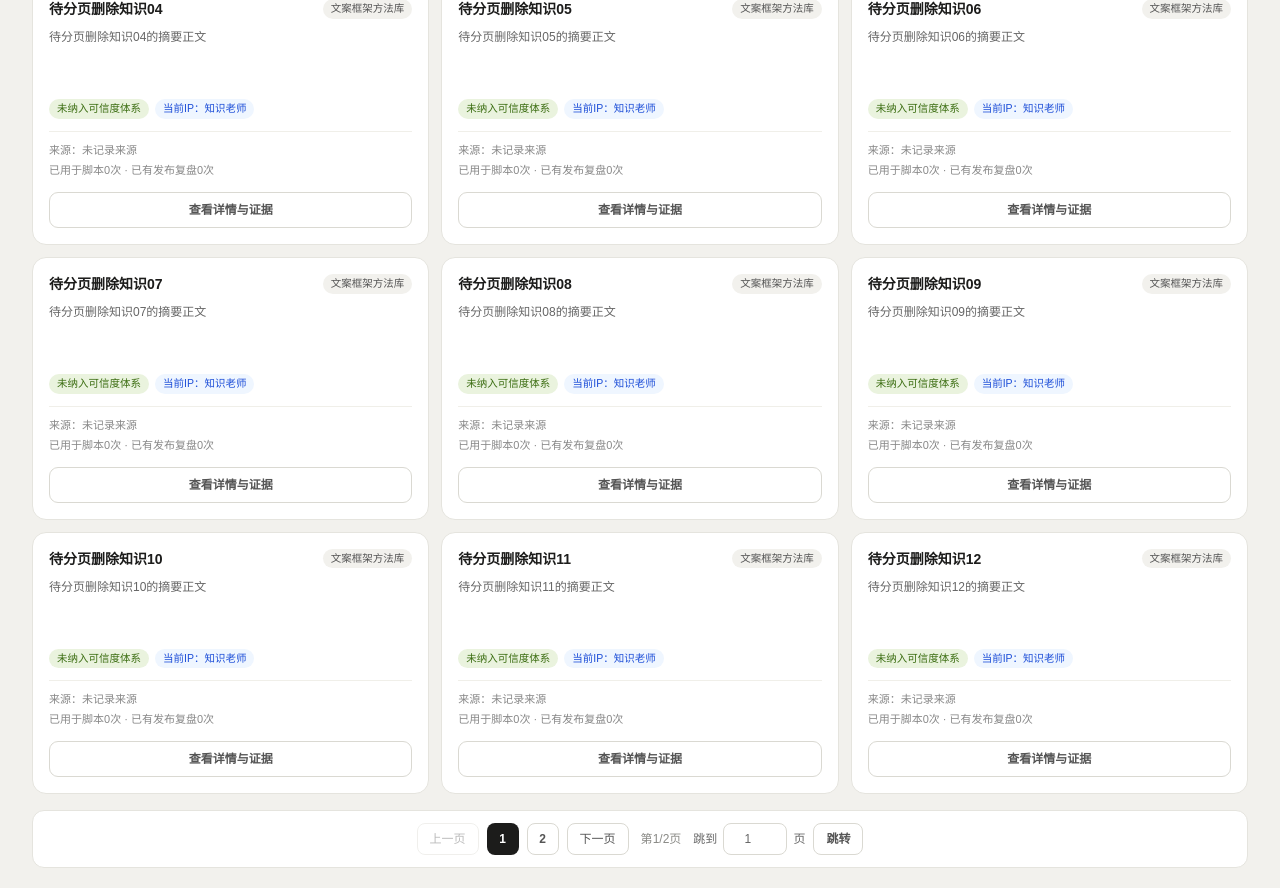
Test: 删除当前末页唯一一条知识后自动退回有效页
The image size is (1280, 888).
(page scrolled)
Click the button named "第2页".
click(543, 839)  # box [527, 823, 559, 855]
(page scrolled)
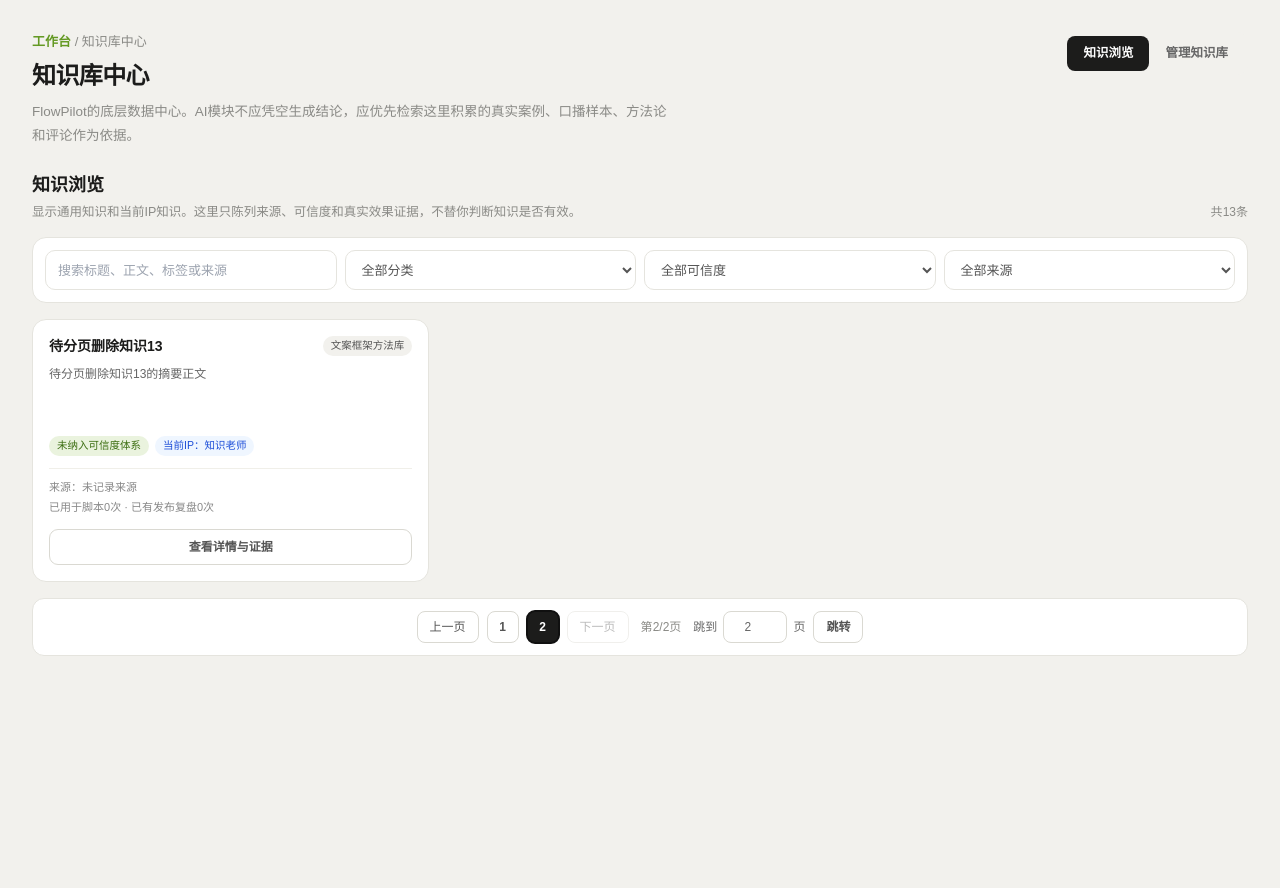
Click the button with aria-label "查看待分页删除知识13详情".
click(231, 547)  # box [49, 529, 412, 565]
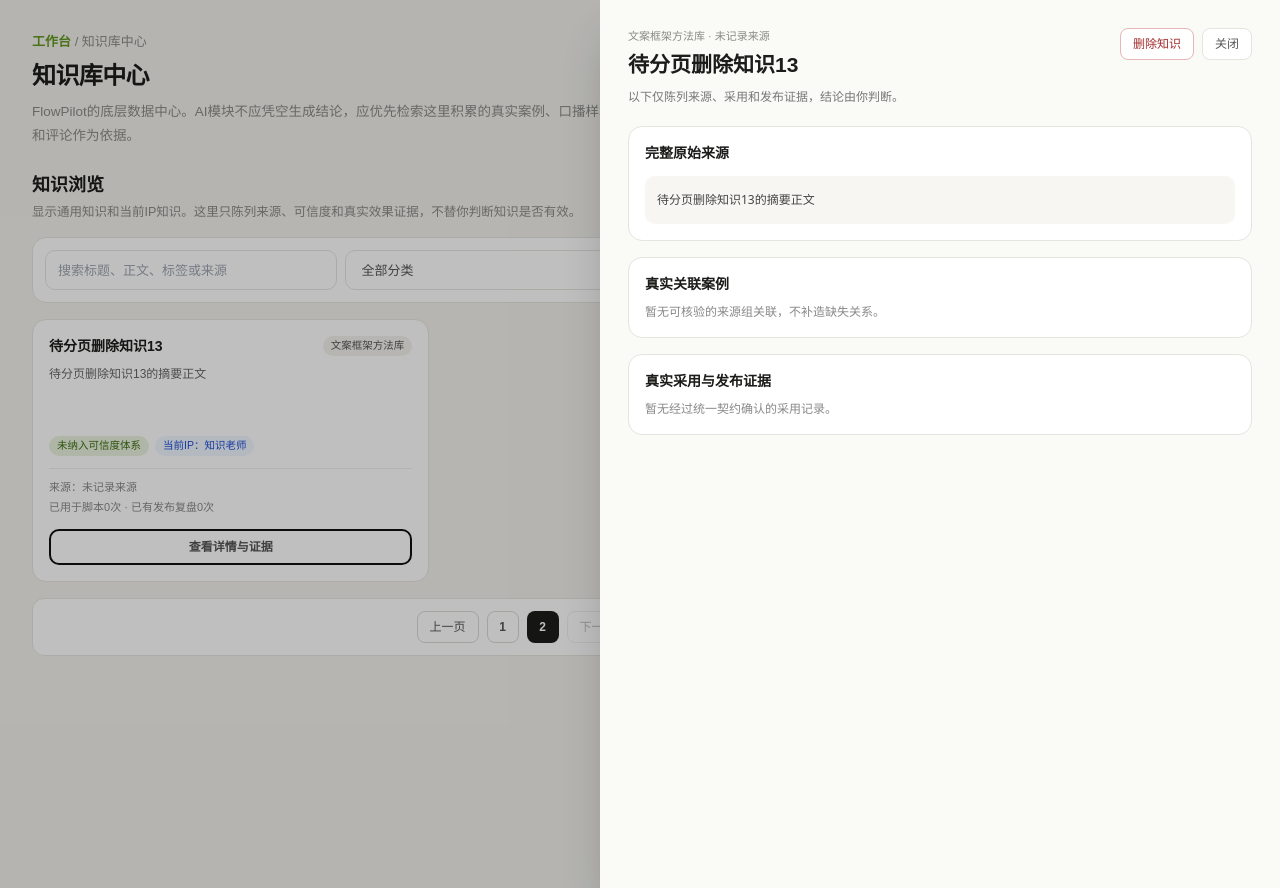
Click the button "删除知识".
click(1157, 44)  # box [1120, 28, 1194, 60]
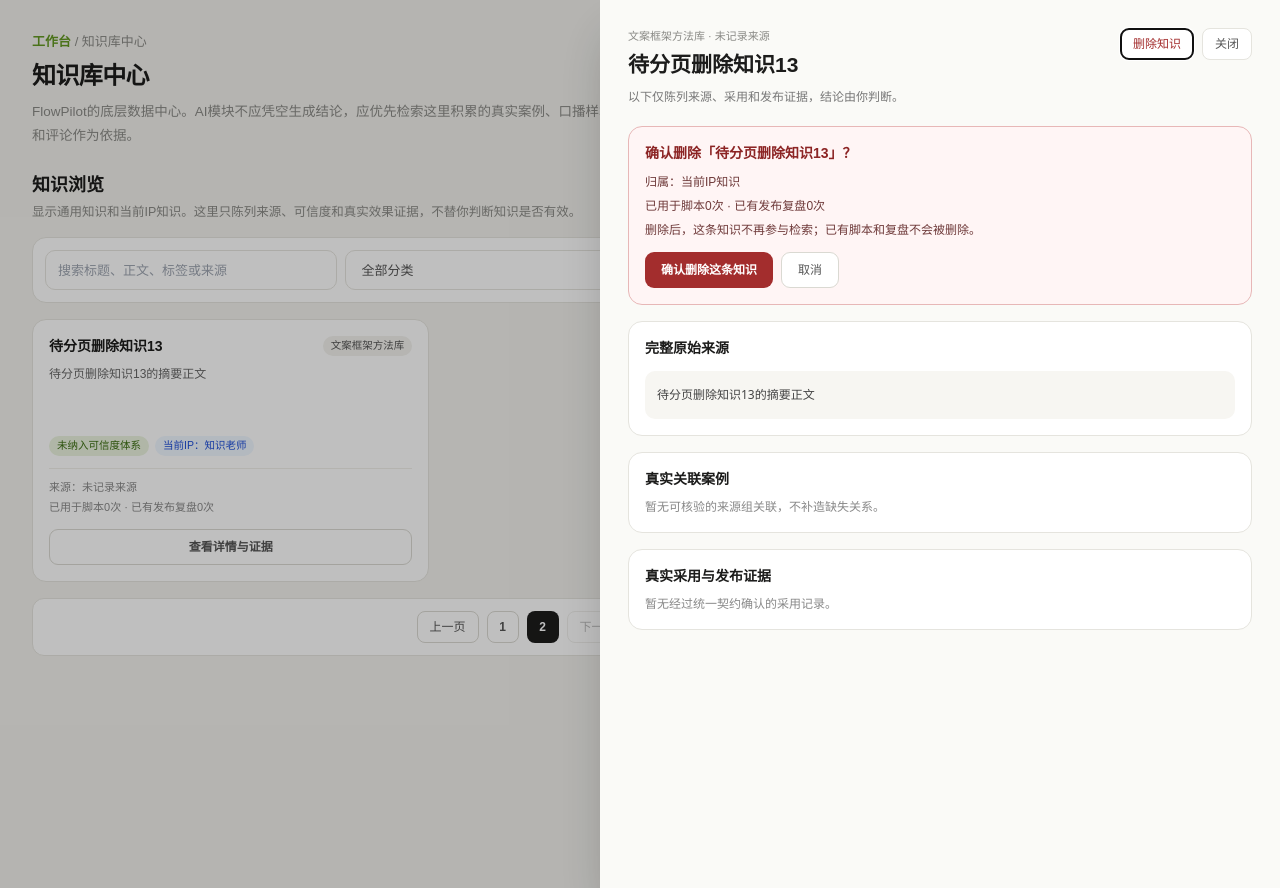
Click the button "确认删除这条知识".
click(709, 270)  # box [645, 252, 773, 288]
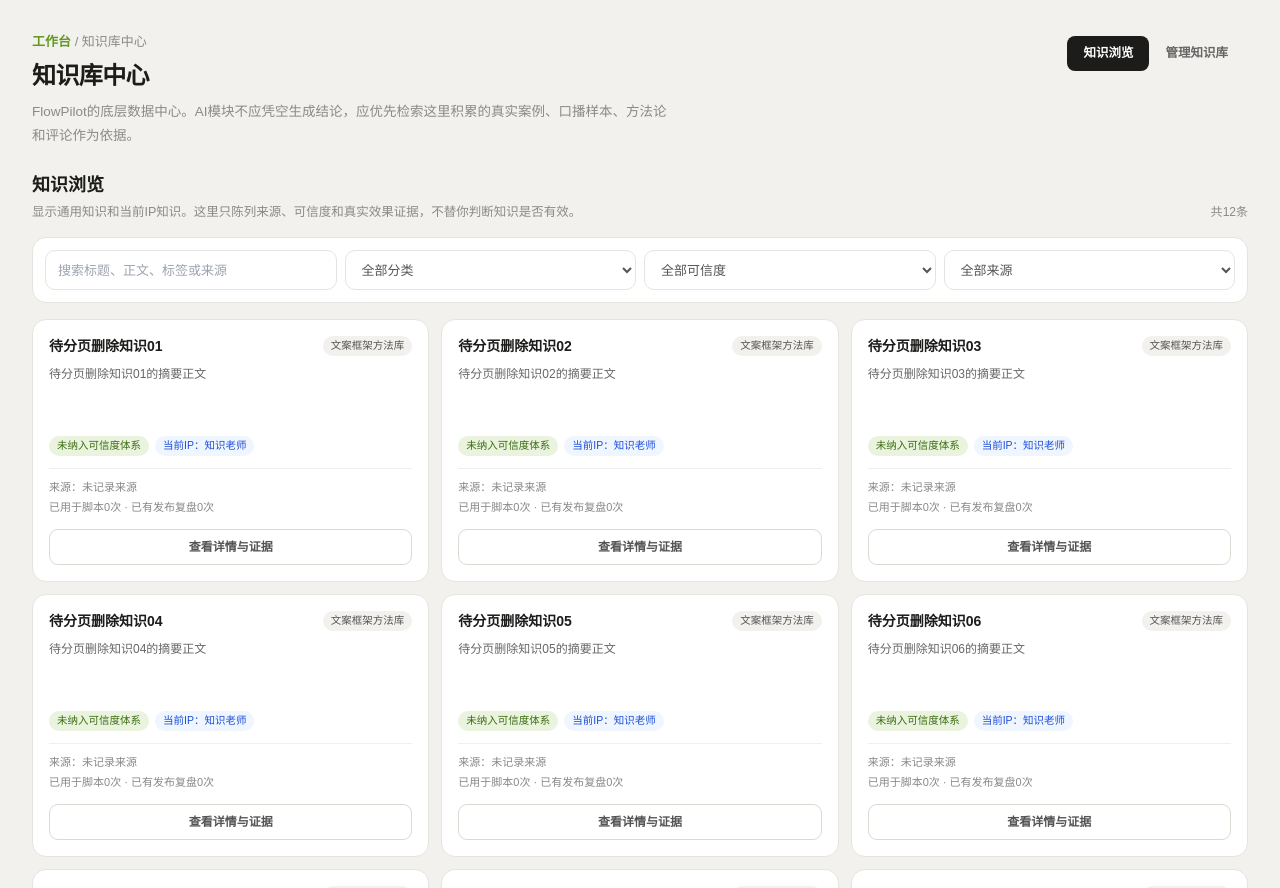
Expected: the heading "待分页删除知识01" is shown, [49, 336, 163, 356]
Expected: the heading "待分页删除知识13" is gone
